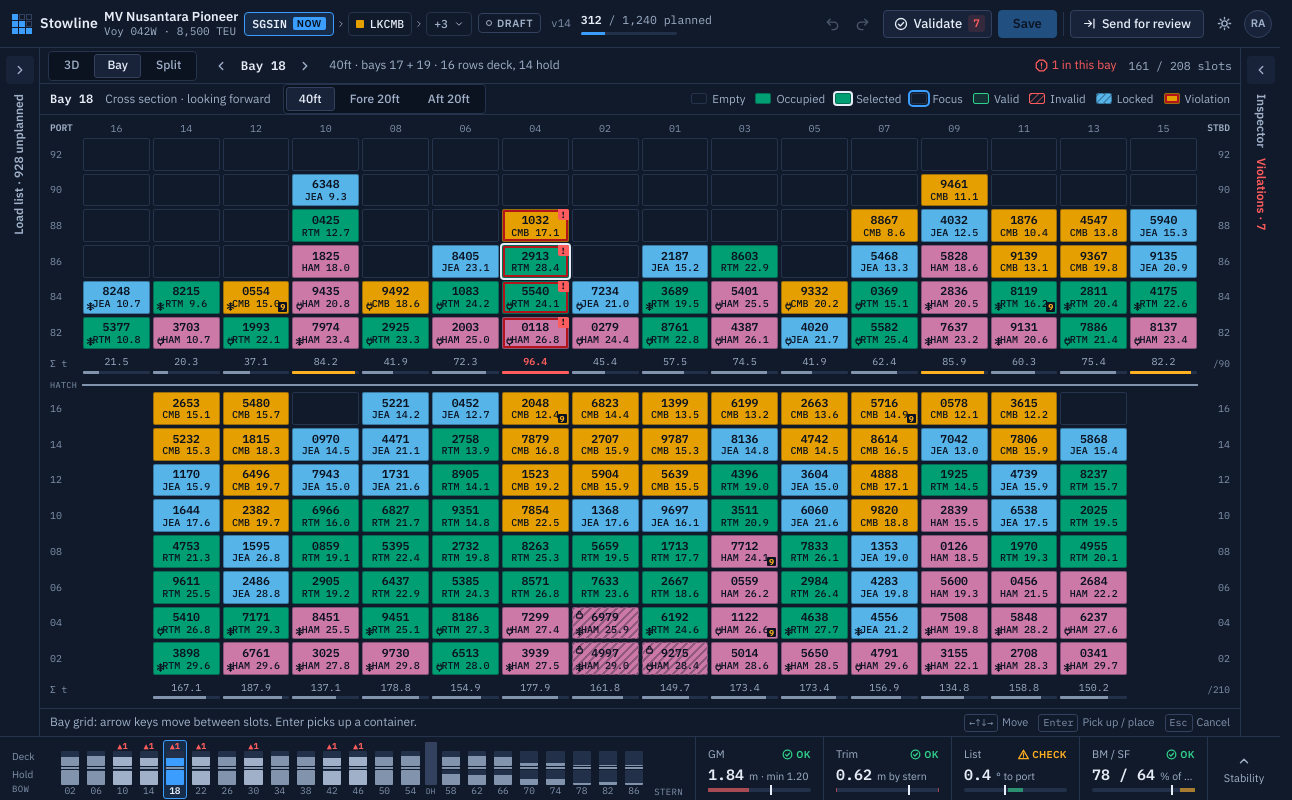
Scenario: bay stepping (FR-30) › steps through the bays from the toolbar and in the navigator (FR-10)
What coordinates should you click on to do the following:
click the button named "Next bay"
I would click on:
 (305, 66)
Its box is [293,54,317,78].
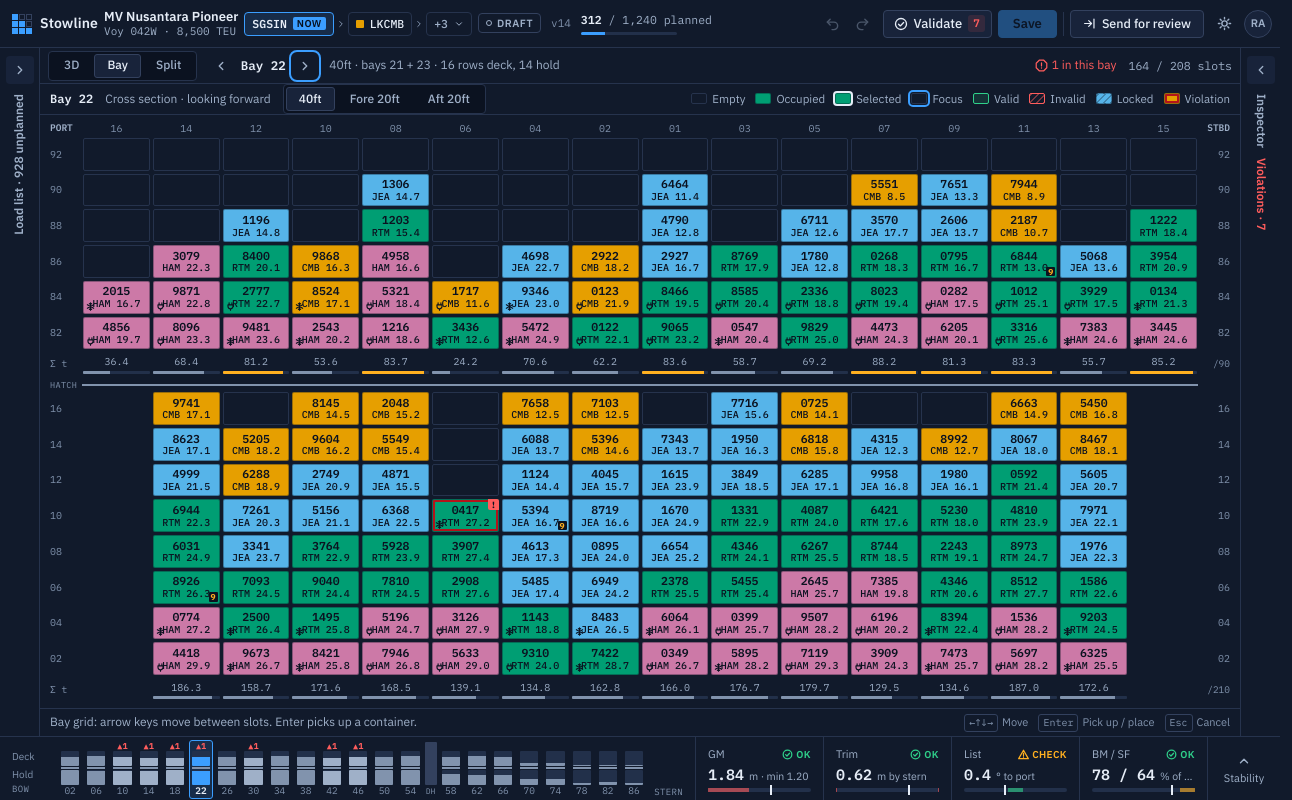
expect the text "Bay 18" next to "40ft · bays" reads "Bay 22": met, box [241,57,286,73]
What coordinates should you click on to do the following:
click the button named "Previous bay"
I would click on:
 (221, 66)
Its box is [209,54,233,78].
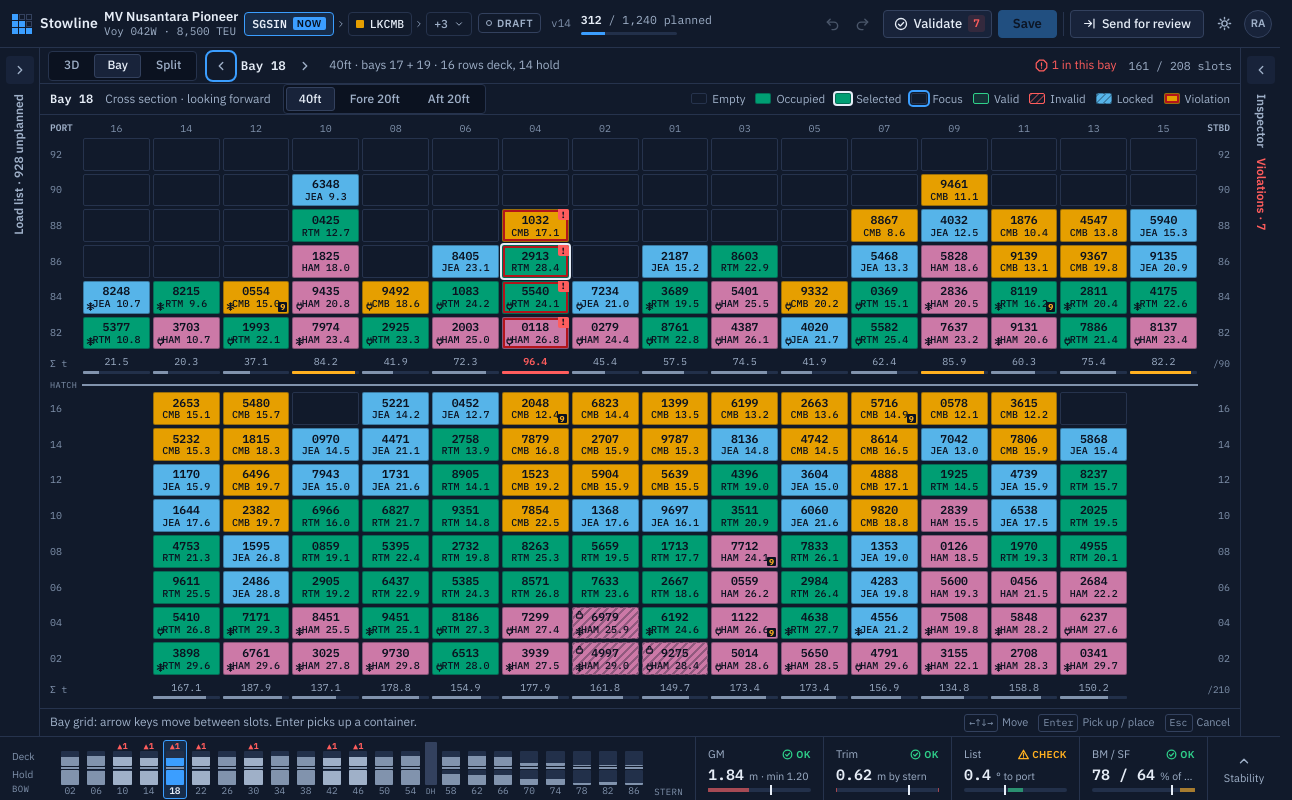
What coordinates should you click on to do the following:
click the button named "Previous bay"
I would click on:
 (221, 66)
Its box is [209,54,233,78].
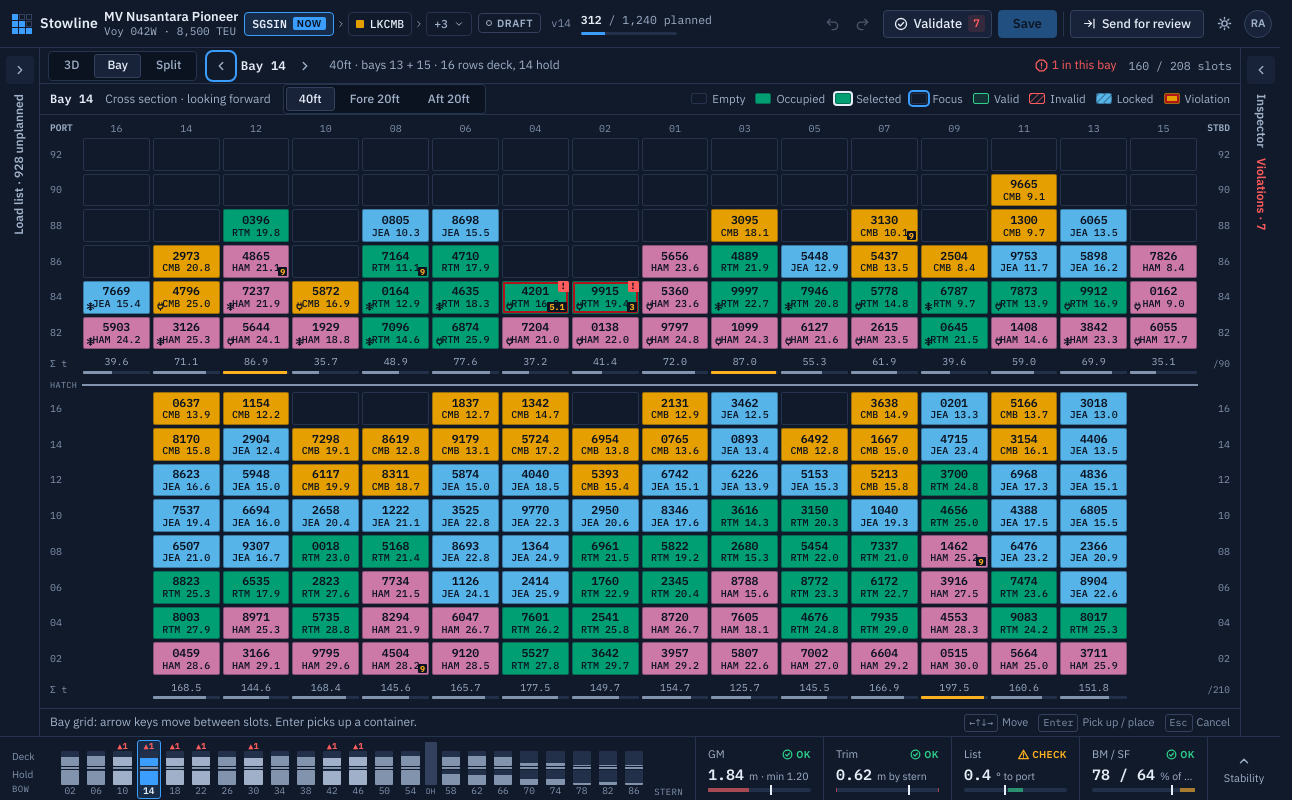
expect the text "Bay 18" next to "40ft · bays" reads "Bay 14": met, box [241,57,286,73]
What coordinates should you click on to do the following:
click the button named "Bay 42:"
I would click on:
 (332, 769)
Its box is [320,740,344,799].
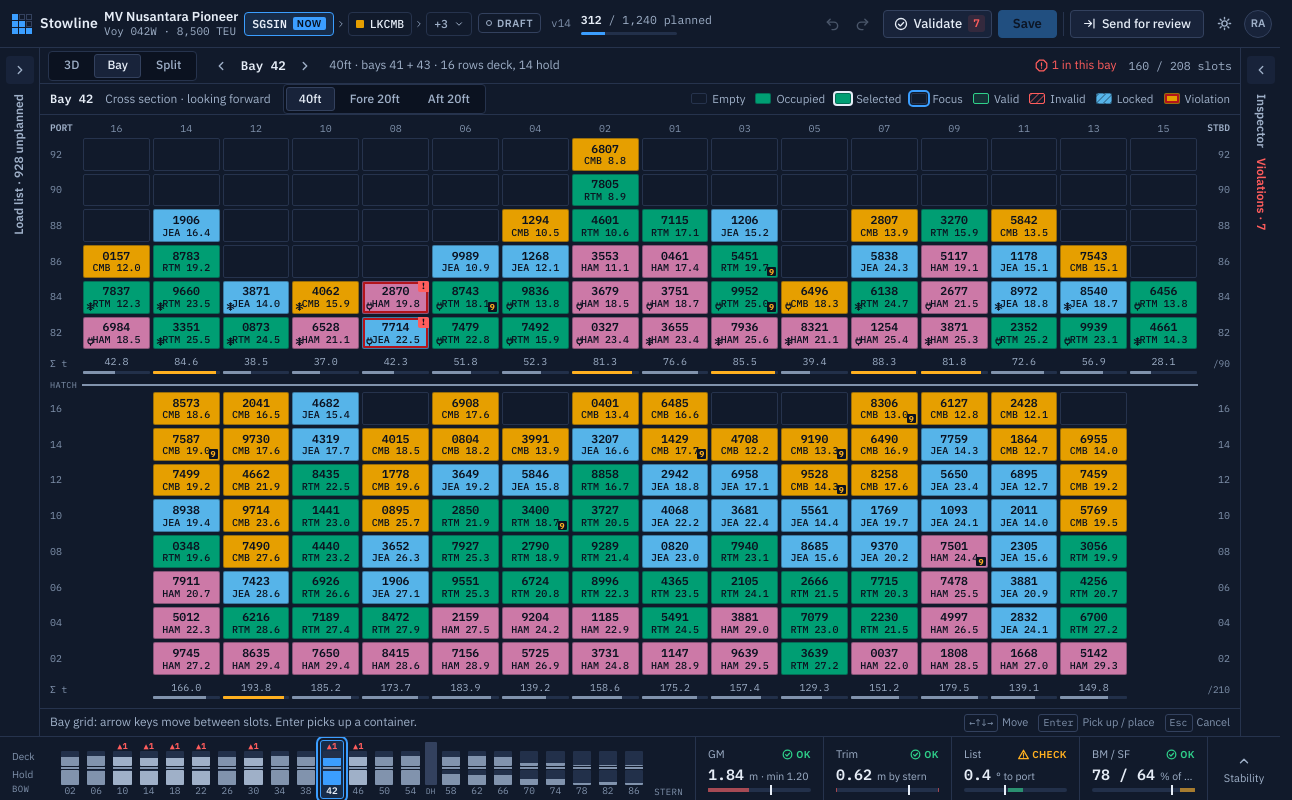
expect the text "Bay 18" next to "40ft · bays" reads "Bay 42": met, box [241,57,286,73]
